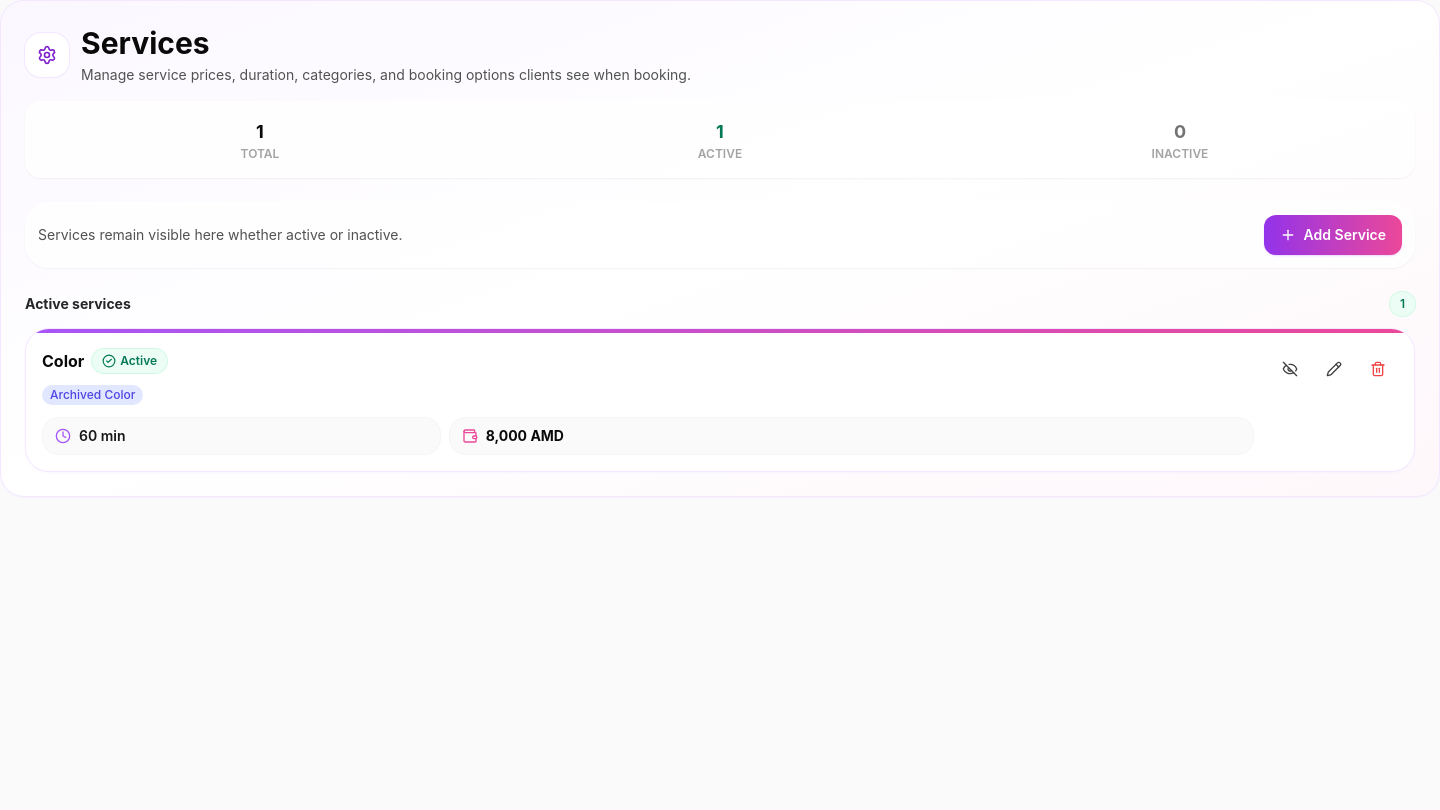
Test: ServicesManager › editing retains an owner-visible inactive custom category
The width and height of the screenshot is (1440, 810).
Click the button titled "Edit" at point(1334, 369), box [1314,349,1354,389]
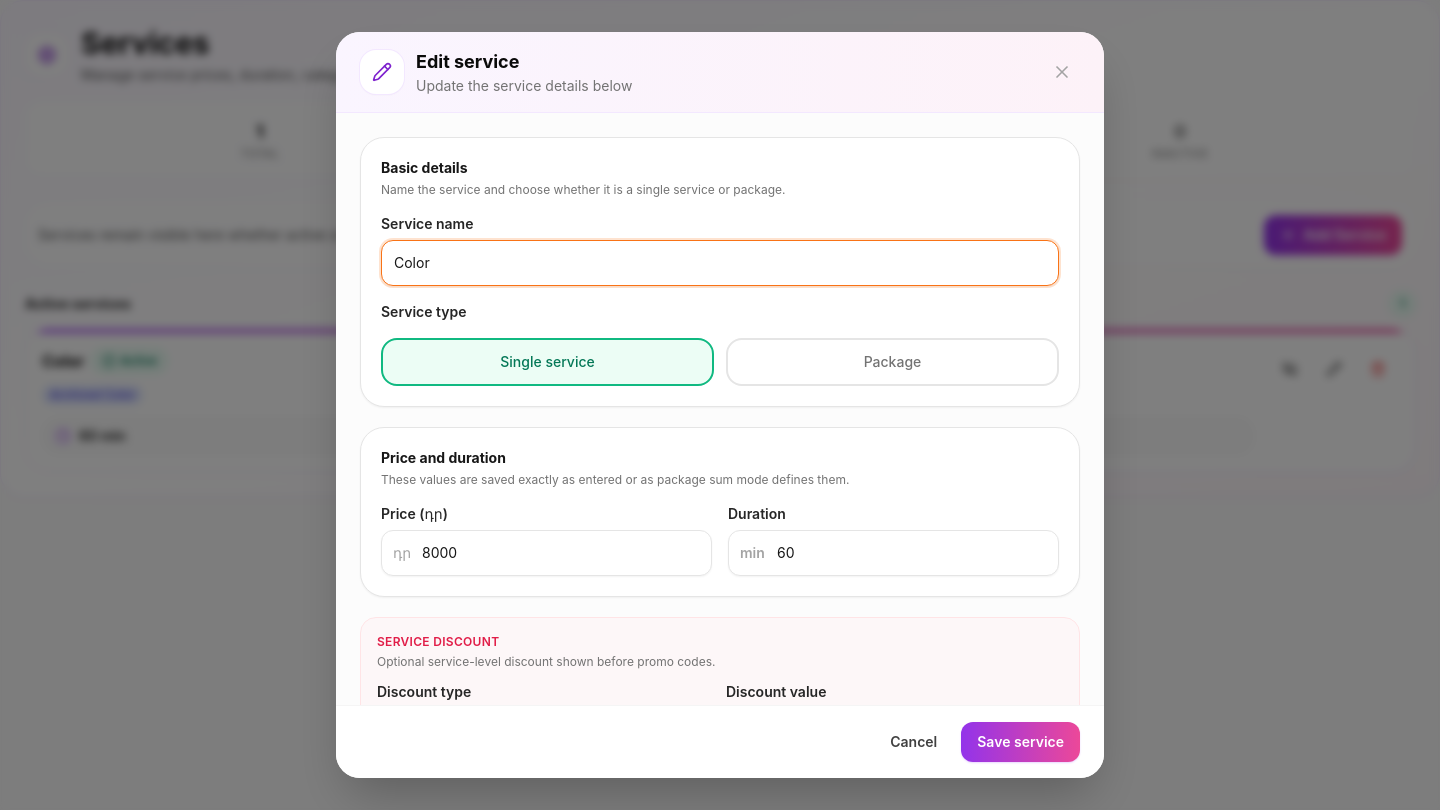
Expected: the button "Save service" is enabled, [961,722,1080,762]
